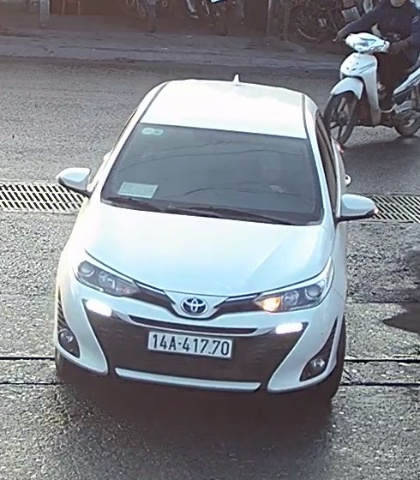vehicle plate: (143, 325, 234, 359)
